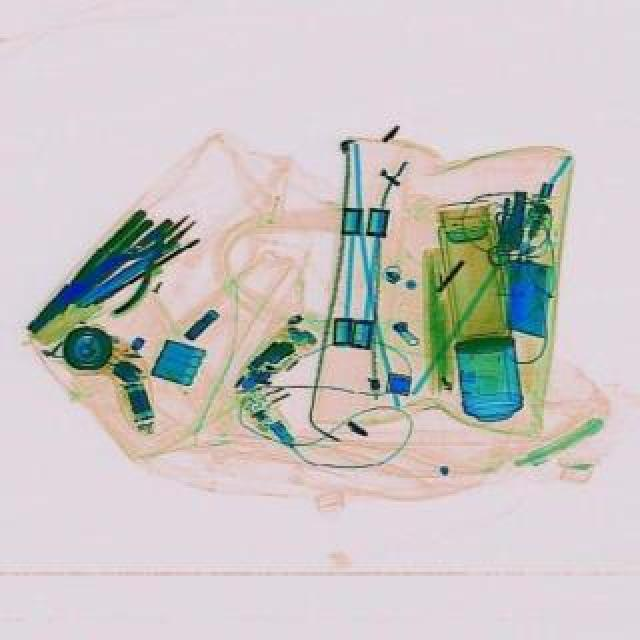wrench: (80, 200, 218, 324)
